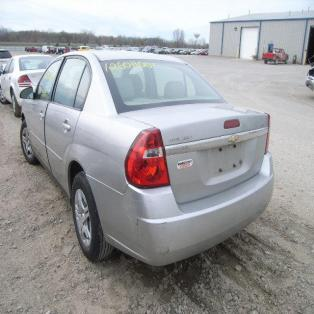Auto: (18, 51, 274, 268)
